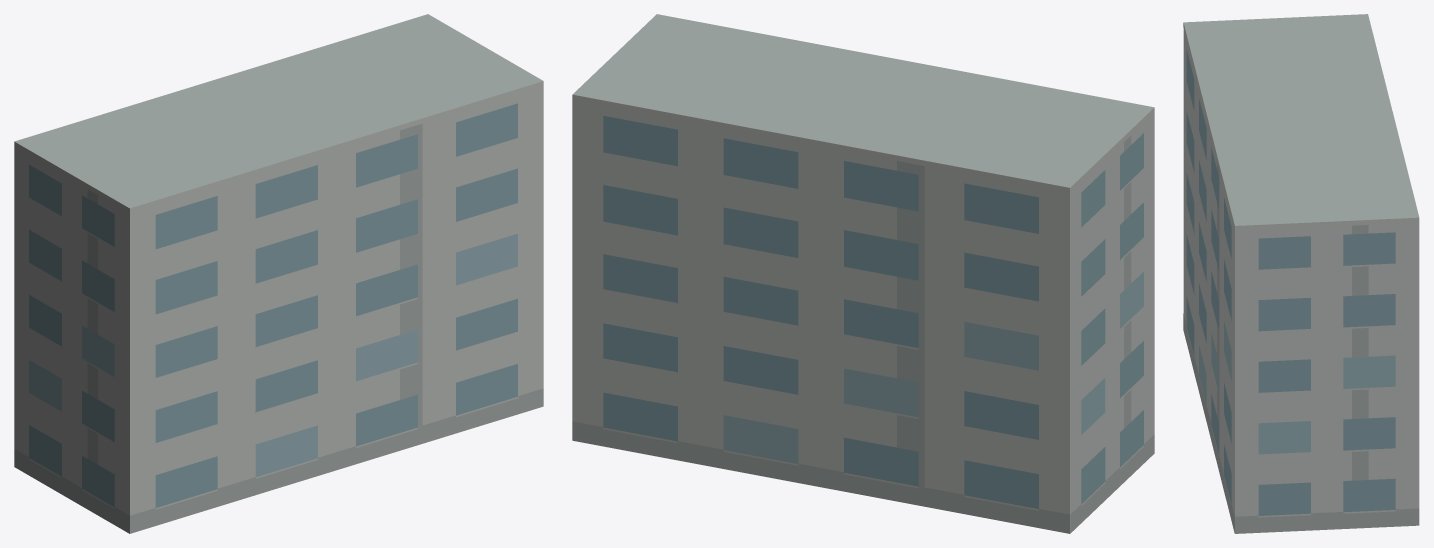
The model's file is residential-71d49877-d2b1-4059-b04a-59d8e01666d8.glb.
The picture shows the model from 3 angles, left to right: view 1: azimuth 30°, elevation 25°; view 2: azimuth 150°, elevation 25°; view 3: azimuth 270°, elevation 25°; orthographic projection. The views are drawn at different scales.
Visible parts, largest first — view 1: residential-71d49877-d2b1-4059-b04a-59d8e01666d8.tmp; view 2: residential-71d49877-d2b1-4059-b04a-59d8e01666d8.tmp; view 3: residential-71d49877-d2b1-4059-b04a-59d8e01666d8.tmp.
Boxes of the visible parts, left/top/right/bottom form: residential-71d49877-d2b1-4059-b04a-59d8e01666d8.tmp: left=14, top=14, right=543, bottom=533; residential-71d49877-d2b1-4059-b04a-59d8e01666d8.tmp: left=572, top=14, right=1154, bottom=533; residential-71d49877-d2b1-4059-b04a-59d8e01666d8.tmp: left=1183, top=14, right=1419, bottom=533.
Size of the model in its own units: 22.52 by 15.25 by 10.6.
